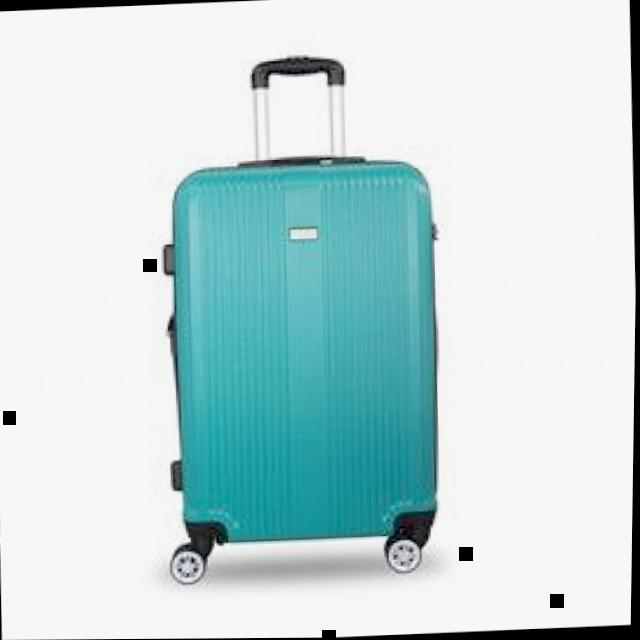luggage: (145, 141, 459, 595)
